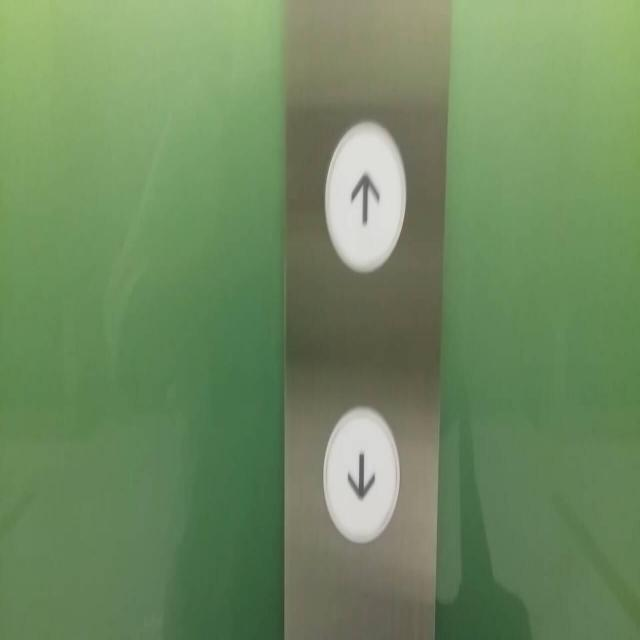down: (316, 395, 404, 553)
up: (320, 111, 408, 284)
